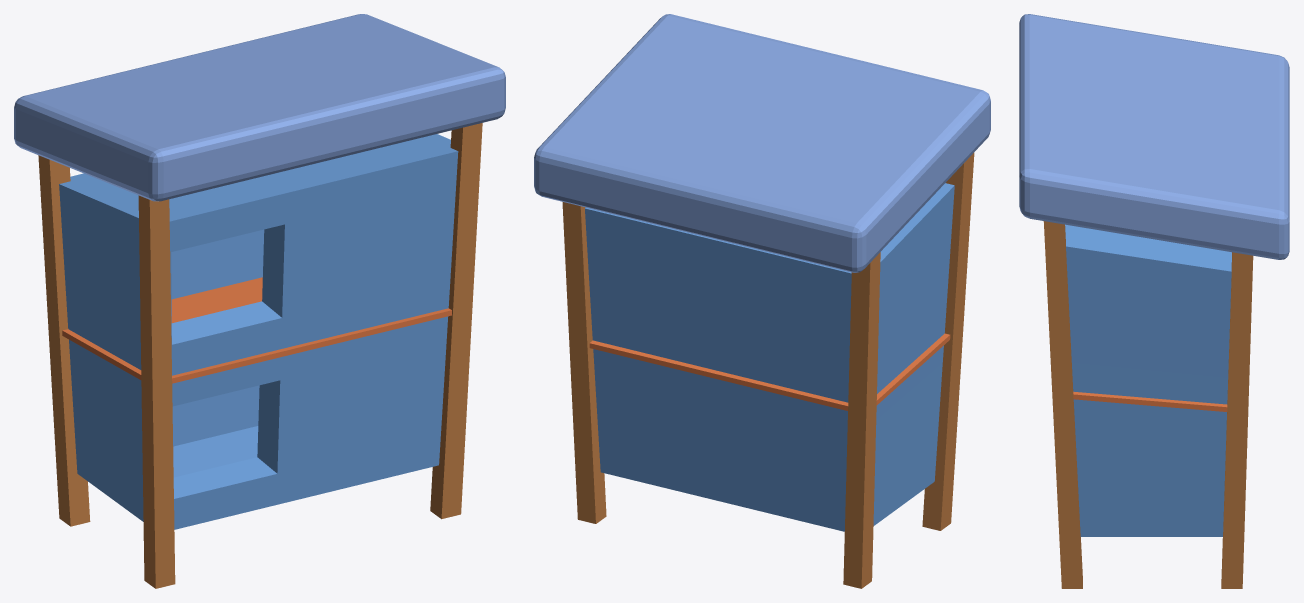
File: chicken coop main.fbx
3 views of the same model, side by side, from view 1: azimuth 30°, elevation 25°; view 2: azimuth 150°, elevation 25°; view 3: azimuth 270°, elevation 25° (orthographic). The views are drawn at different scales.
Parts seen in each view (by area): view 1: Cube.032; view 2: Cube.032; view 3: Cube.032.
Part boxes in pixels (box(x1,y1,x2,y2)): Cube.032: box(14, 14, 505, 588); Cube.032: box(534, 14, 990, 588); Cube.032: box(1019, 14, 1289, 588).
Size of the model in its own units: 514 by 628 by 360.
